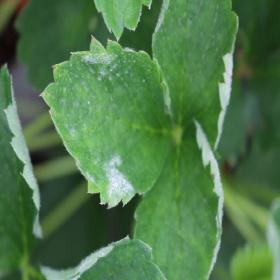Powdery Mildew Leaf: (36, 34, 174, 210), (132, 118, 225, 279), (151, 0, 240, 161), (0, 62, 45, 261), (39, 234, 167, 279)
